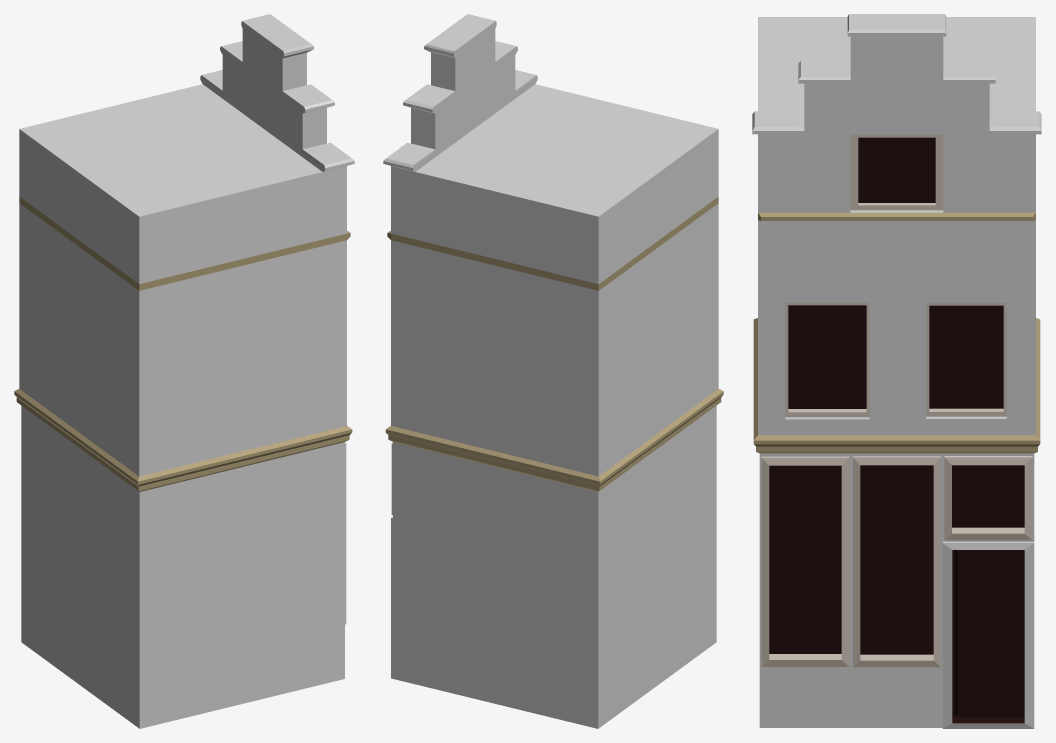
The model's file is ExperimentBuildings 1.fbx.
3 renders of one model, left to right at view 1: azimuth 30°, elevation 25°; view 2: azimuth 150°, elevation 25°; view 3: azimuth 270°, elevation 25°, orthographic. The views are drawn at different scales.
Visible parts, largest first — view 1: Cube; view 2: Cube; view 3: Cube.
Boxes of the visible parts, x1,y1,x2,y2 form: Cube: (14,14,354,728); Cube: (383,14,723,728); Cube: (752,14,1041,728).
Bounding box in the file's own units: 0.2111 × 0.5637 × 0.2107.
